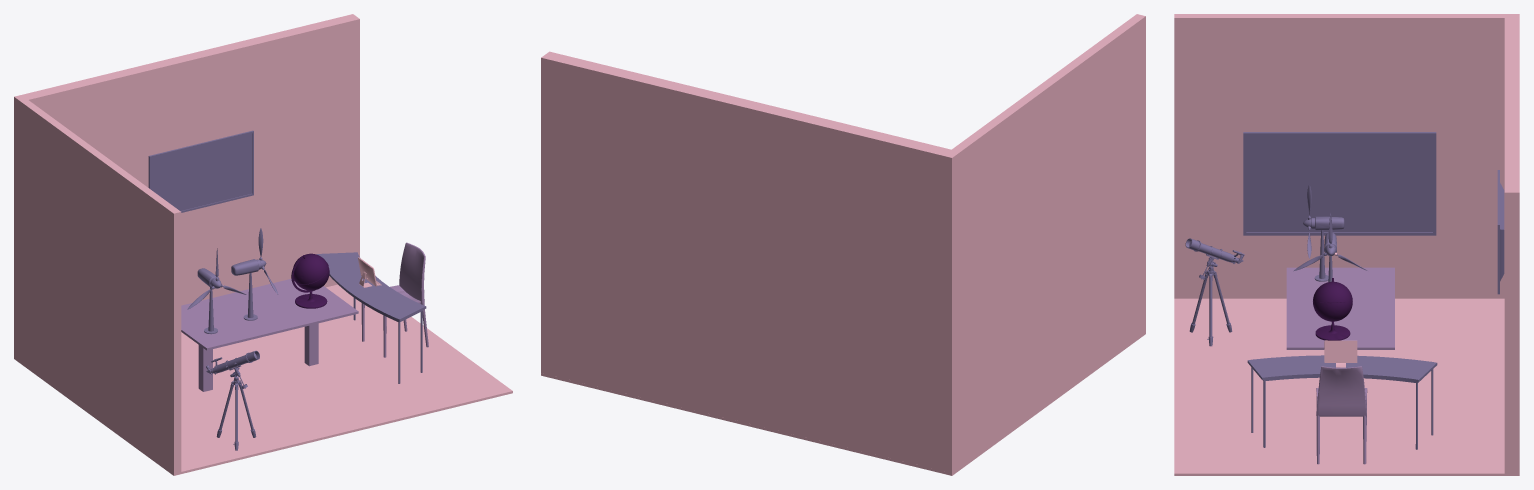
The model's file is edulab_without_animation.glb.
3 renders of one model, left to right at view 1: azimuth 30°, elevation 25°; view 2: azimuth 150°, elevation 25°; view 3: azimuth 270°, elevation 25°, orthographic. The views are drawn at different scales.
Visible parts, largest first — view 1: model; view 2: model; view 3: model.
Boxes of the visible parts, x1,y1,x2,y2 form: model: [14, 14, 512, 475]; model: [541, 14, 1145, 475]; model: [1174, 14, 1519, 475].
Size of the model in its own units: 15.3 by 11.31 by 12.49.
